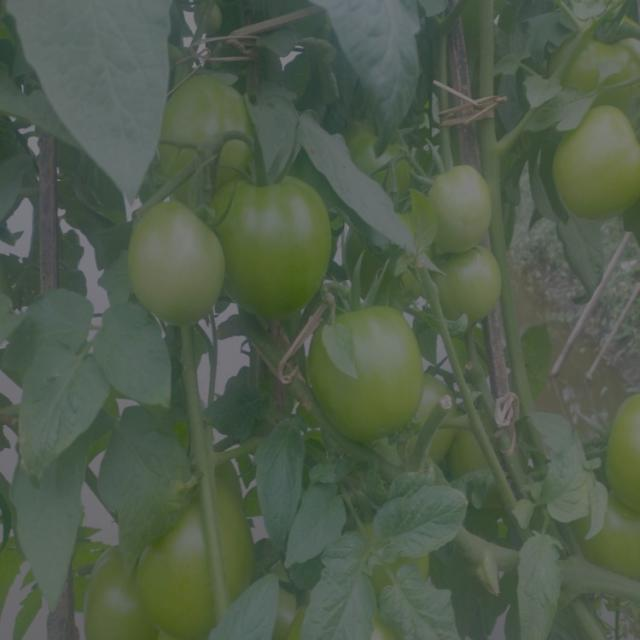tomato: (139, 481, 267, 636), (214, 170, 340, 320), (309, 298, 434, 438), (122, 198, 230, 322), (157, 59, 260, 180), (546, 98, 640, 217), (416, 157, 504, 248), (561, 13, 640, 93), (428, 249, 509, 322), (83, 551, 146, 640), (343, 113, 404, 183), (440, 405, 496, 479), (581, 508, 640, 577), (609, 402, 640, 511), (271, 573, 320, 640), (372, 544, 436, 592)
